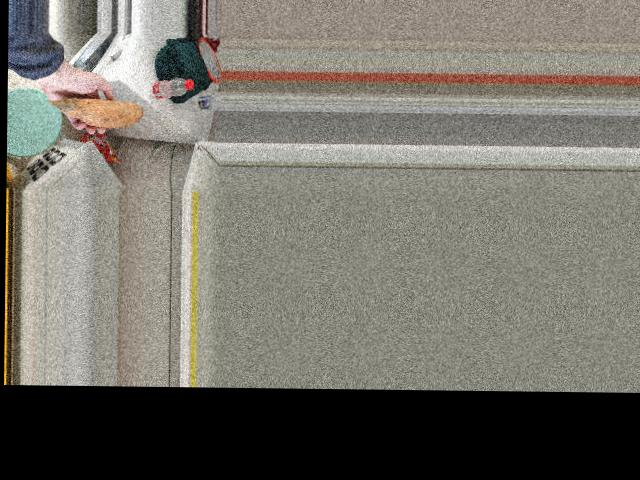sweet_potato: (54, 97, 134, 129)
